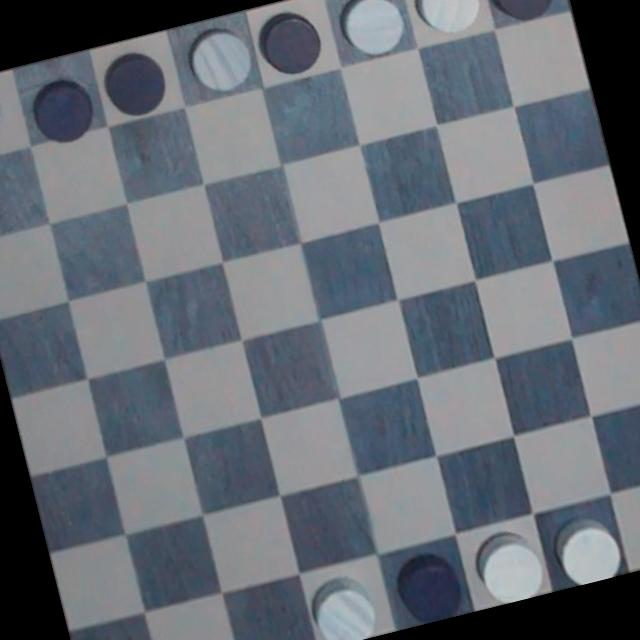BOARD: (0, 0, 640, 640)
black: (382, 538, 472, 630), (94, 38, 177, 130), (23, 66, 106, 152), (251, 1, 331, 83), (482, 0, 572, 28)
white: (544, 500, 632, 590), (464, 524, 554, 610), (180, 18, 261, 107), (302, 566, 389, 640), (335, 0, 409, 62), (406, 0, 486, 44), (0, 70, 17, 154)
